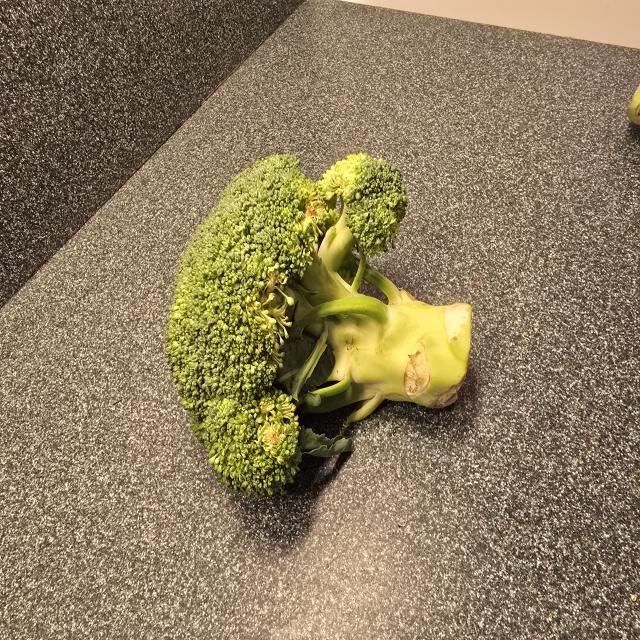Broccoli: (155, 141, 482, 510)
